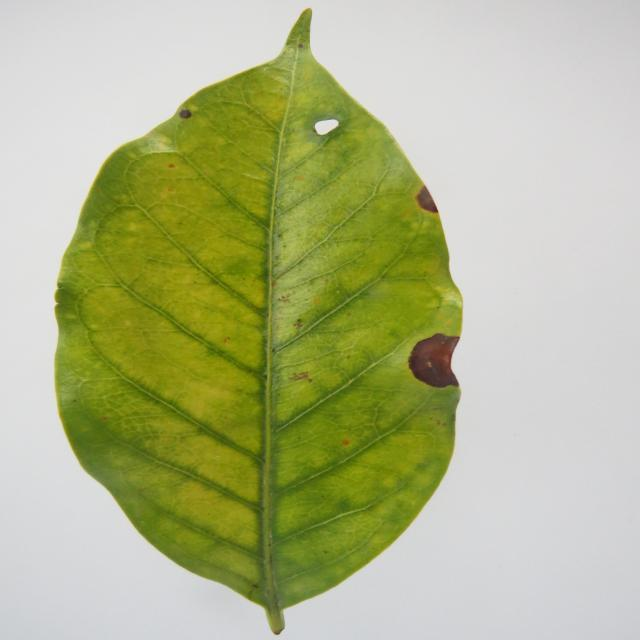DeficienciaNutricional-Magnesio: (57, 9, 462, 634)
